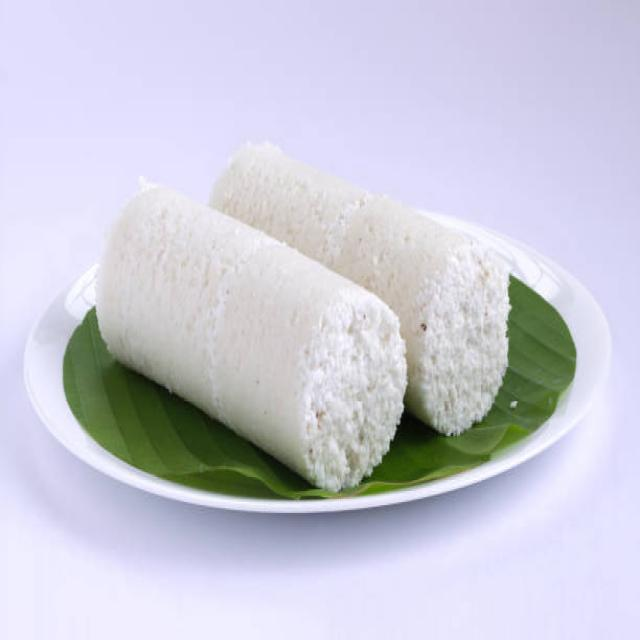PUTTU: (93, 136, 512, 494)
